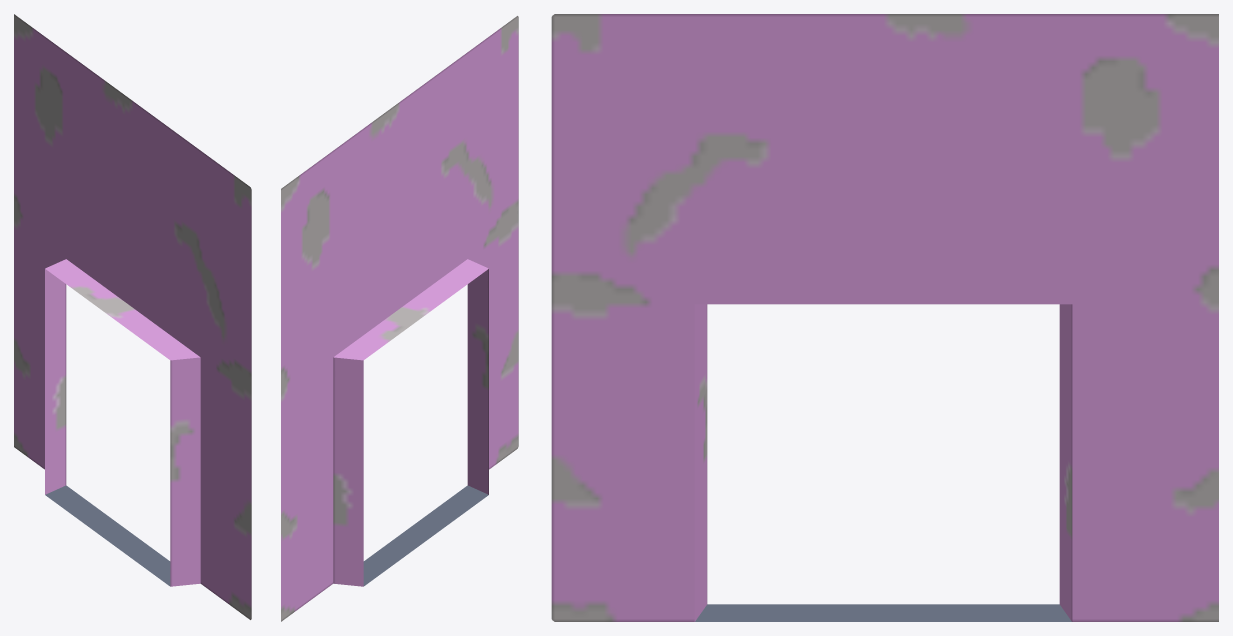
Rendered from ParedPuertaRosa3.fbx.
3 views of the same model, side by side, from view 1: azimuth 30°, elevation 25°; view 2: azimuth 150°, elevation 25°; view 3: azimuth 270°, elevation 25° (orthographic). The views are drawn at different scales.
Visible parts, largest first — view 1: Pared + Puerta Lar; view 2: Pared + Puerta Lar; view 3: Pared + Puerta Lar.
Part boxes in pixels (x1,y1,x2,y2): Pared + Puerta Lar: (14,14,251,619); Pared + Puerta Lar: (281,16,518,621); Pared + Puerta Lar: (551,14,1218,621).
Size of the model in its own units: 18.75 by 300 by 300.
Materials: 1 (1 with a texture image).
